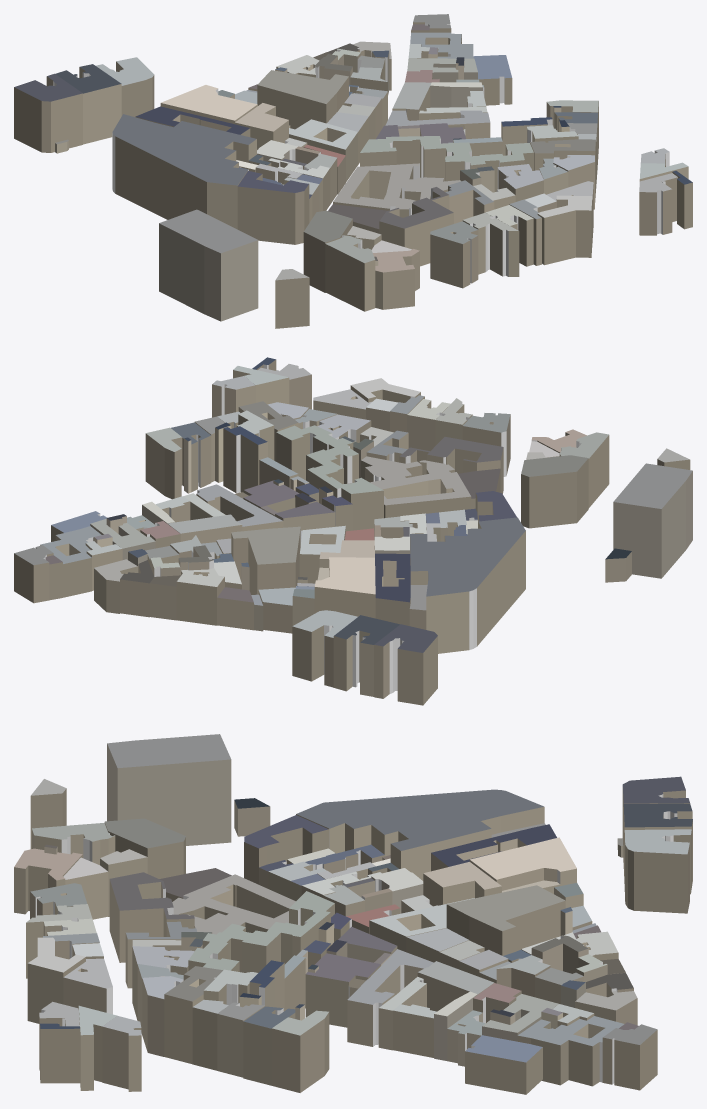
3 renders of one model, top to bottom at view 1: azimuth 30°, elevation 25°; view 2: azimuth 150°, elevation 25°; view 3: azimuth 270°, elevation 25°, orthographic. The views are drawn at different scales.
Visible parts, largest first — view 1: tuile; view 2: tuile; view 3: tuile.
Boxes of the visible parts, x1,y1,x2,y2 form: tuile: [14, 14, 692, 328]; tuile: [14, 357, 692, 705]; tuile: [14, 734, 692, 1094].
Bounding box in the file's own units: 260 × 36.56 × 266.
